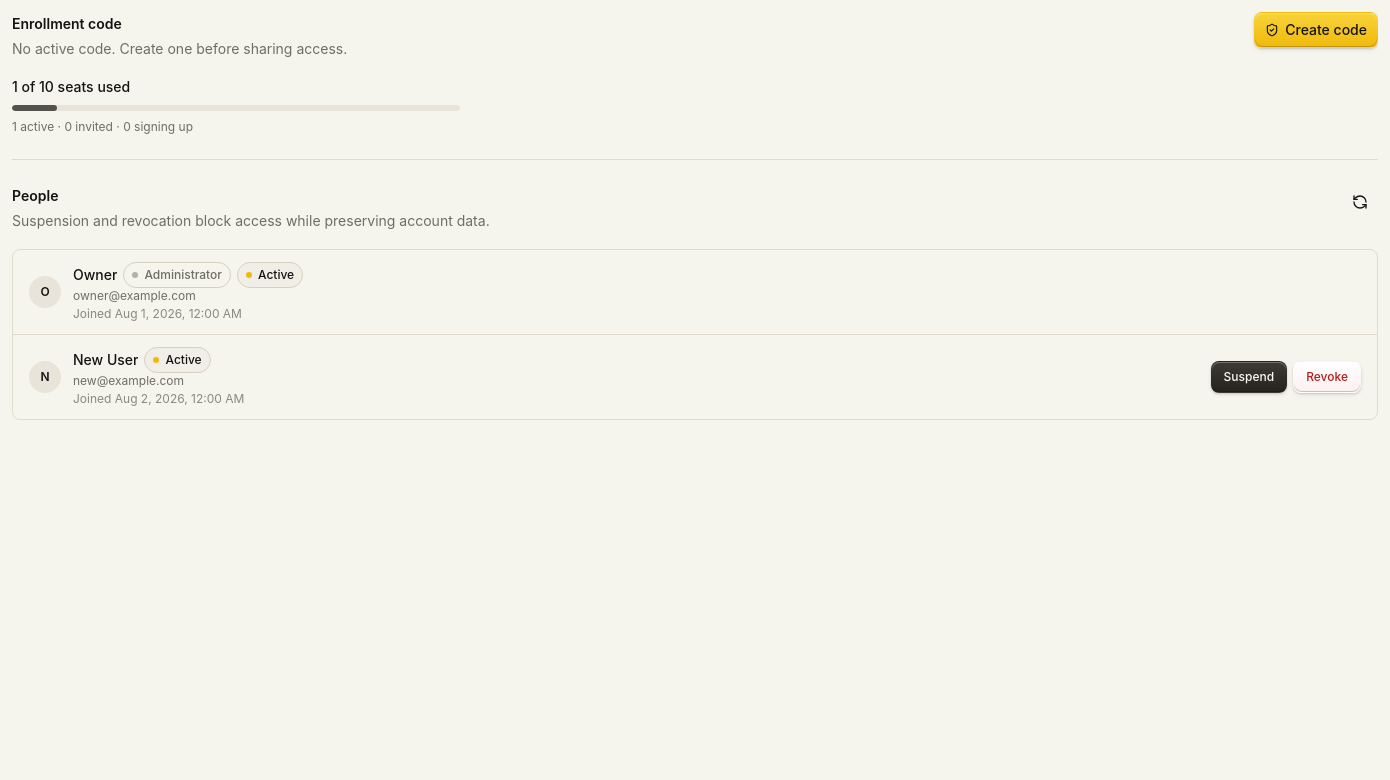
AdminPeopleAccessCard › creates a one-time shared code and fragment link, then marks it copied
Click the button "Create code".
click(1316, 30)  # box [1254,12,1378,48]
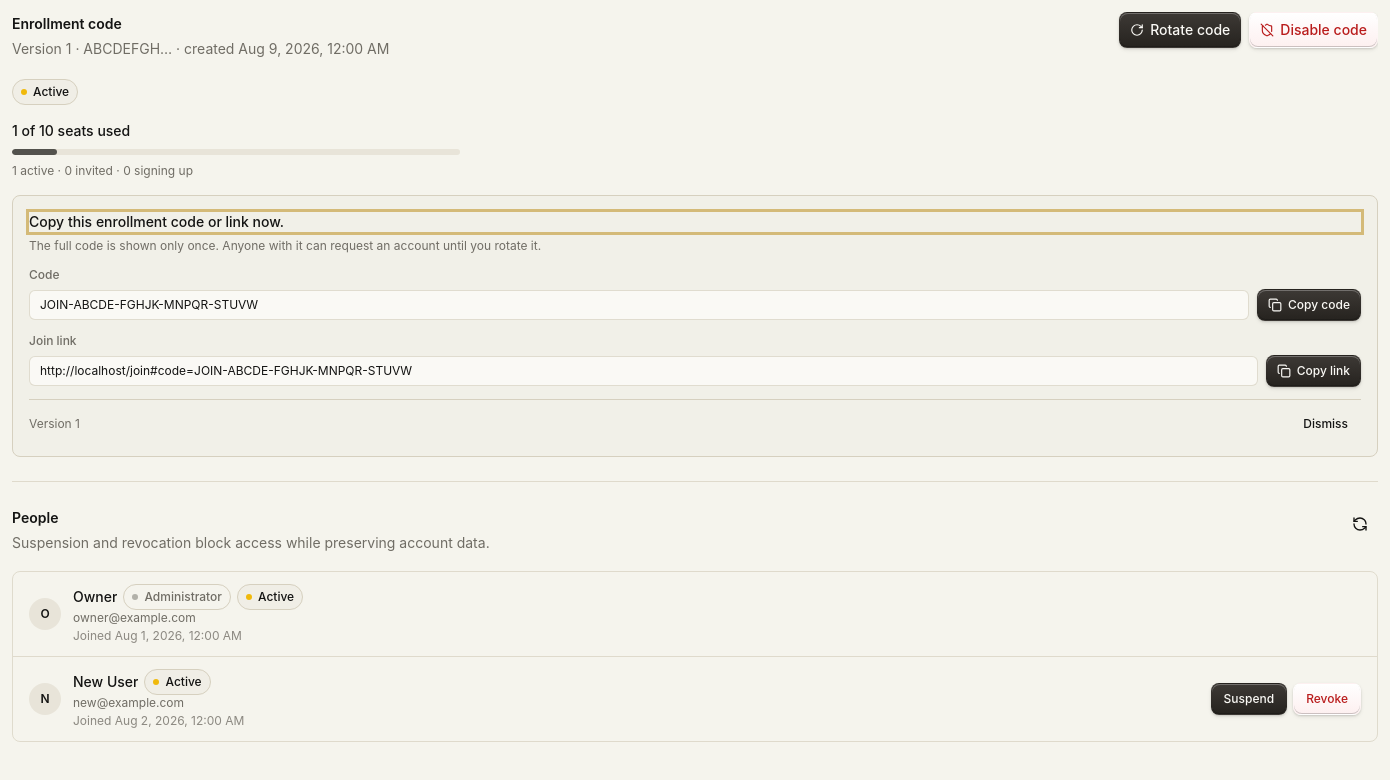
Now the text "JOIN-ABCDE-FGHJK-MNPQR-STUVW" is shown, box [29,290,1249,320]
Now the text "http://localhost/join#code=JOIN-ABCDE-FGHJK-MNPQR-STUVW" is shown, box [29,356,1258,386]
Click the button "Copy link".
click(1313, 371)  # box [1266,355,1361,387]
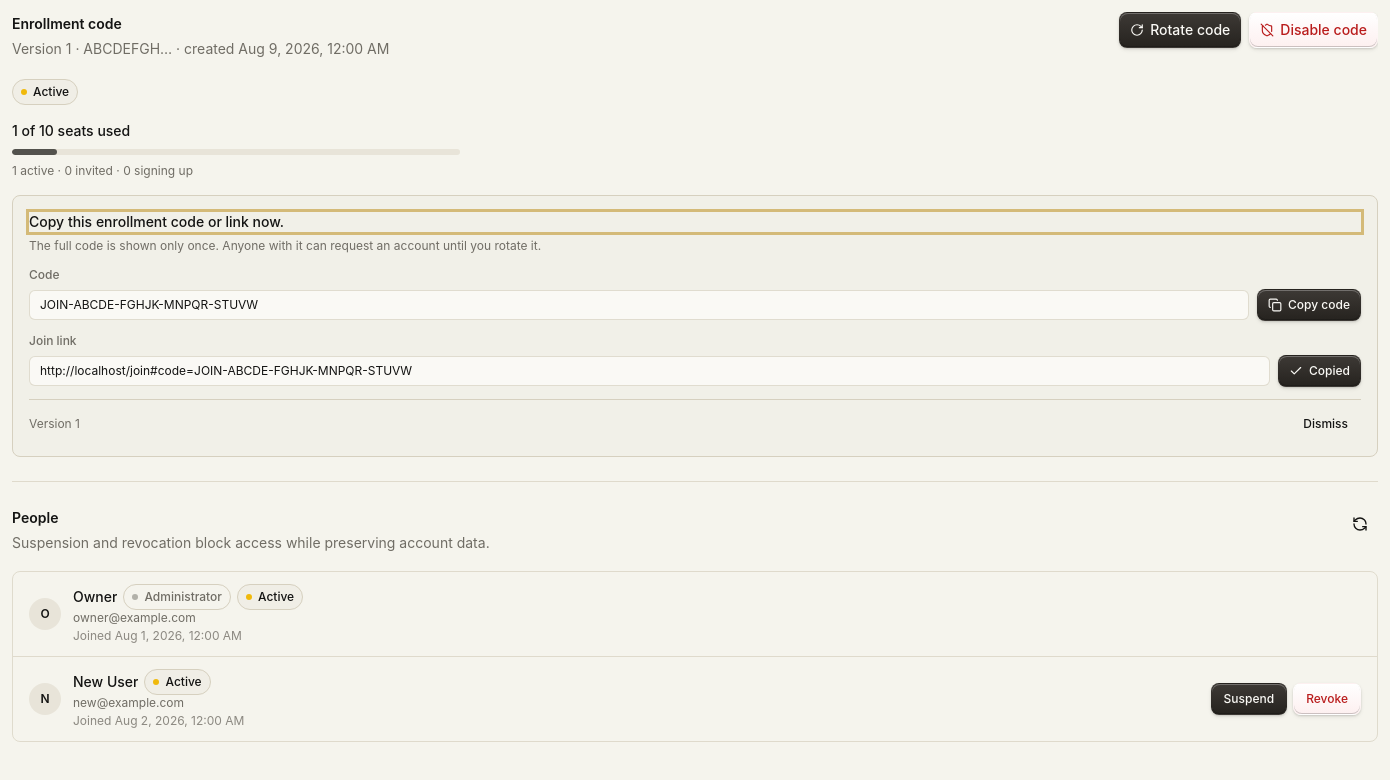
Now the button "Copied" is shown, box [1278,355,1361,387]
